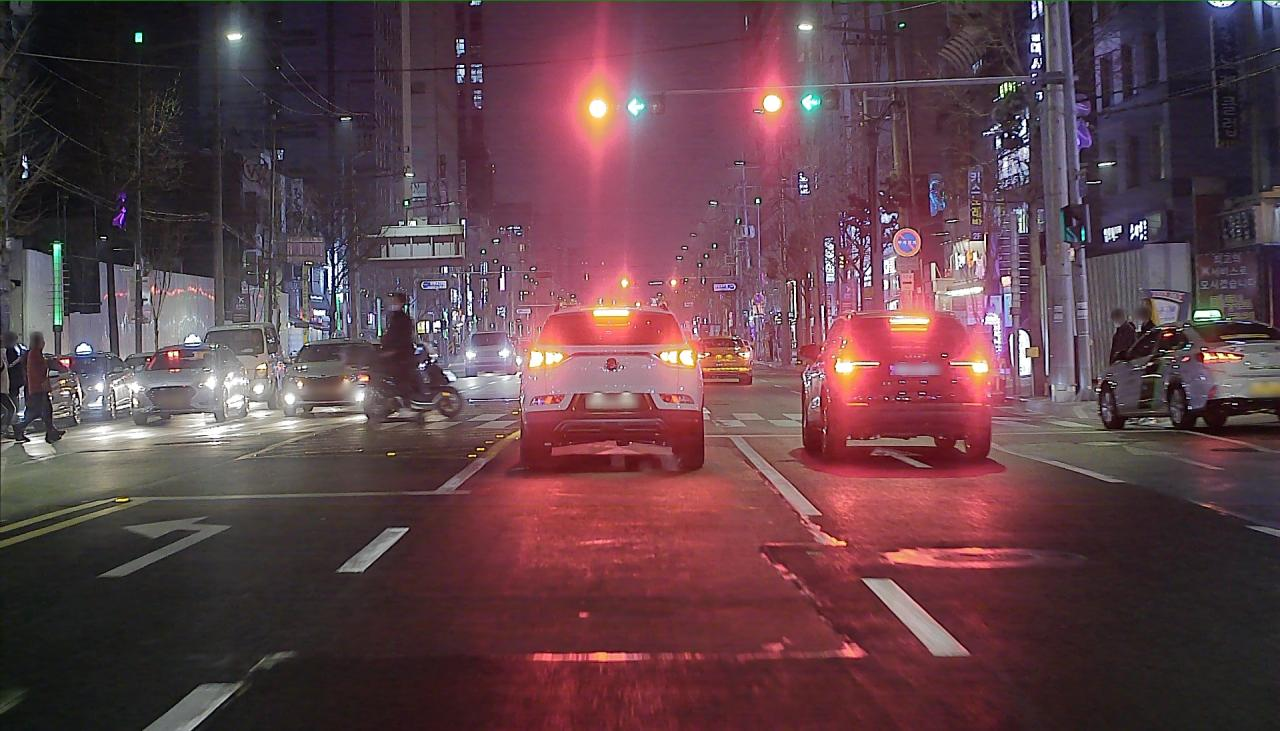Left turn: (625, 97, 647, 117)
Red Light: (586, 98, 608, 119), (762, 94, 783, 114)
